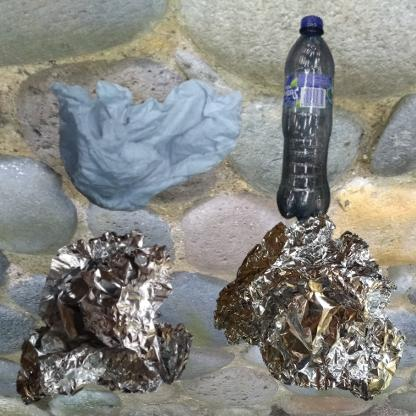aluminio: (10, 213, 218, 416), (213, 213, 406, 401)
botella: (213, 10, 416, 296)
papel: (10, 10, 293, 281)
